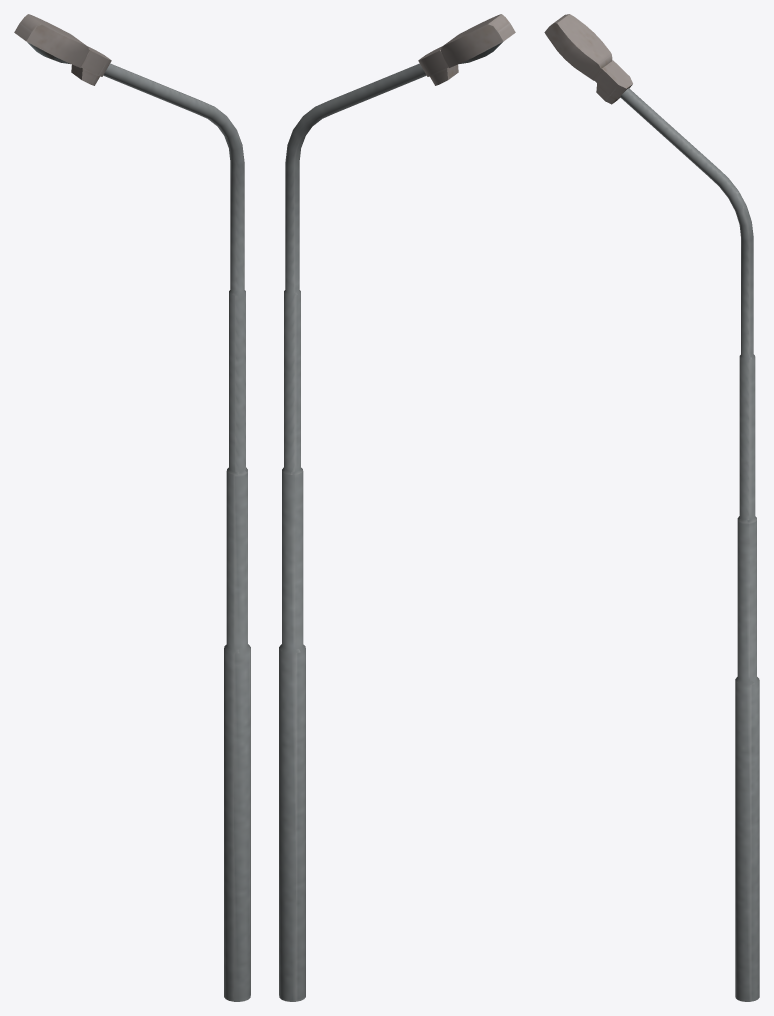
File: lamp-post.glb
The picture shows the model from 3 angles, left to right: view 1: azimuth 30°, elevation 25°; view 2: azimuth 150°, elevation 25°; view 3: azimuth 330°, elevation 25°; orthographic projection. The views are drawn at different scales.
Parts seen in each view (by area): view 1: stuplp; view 2: stuplp; view 3: stuplp.
Boxes of the visible parts, x1=… form: stuplp: x1=14, y1=14, x2=250, y2=1001; stuplp: x1=279, y1=14, x2=515, y2=1001; stuplp: x1=544, y1=14, x2=759, y2=1001.
Bounding box in the file's own units: 1.17 × 5 × 0.1862.
Materials: 1 (1 with a texture image).
